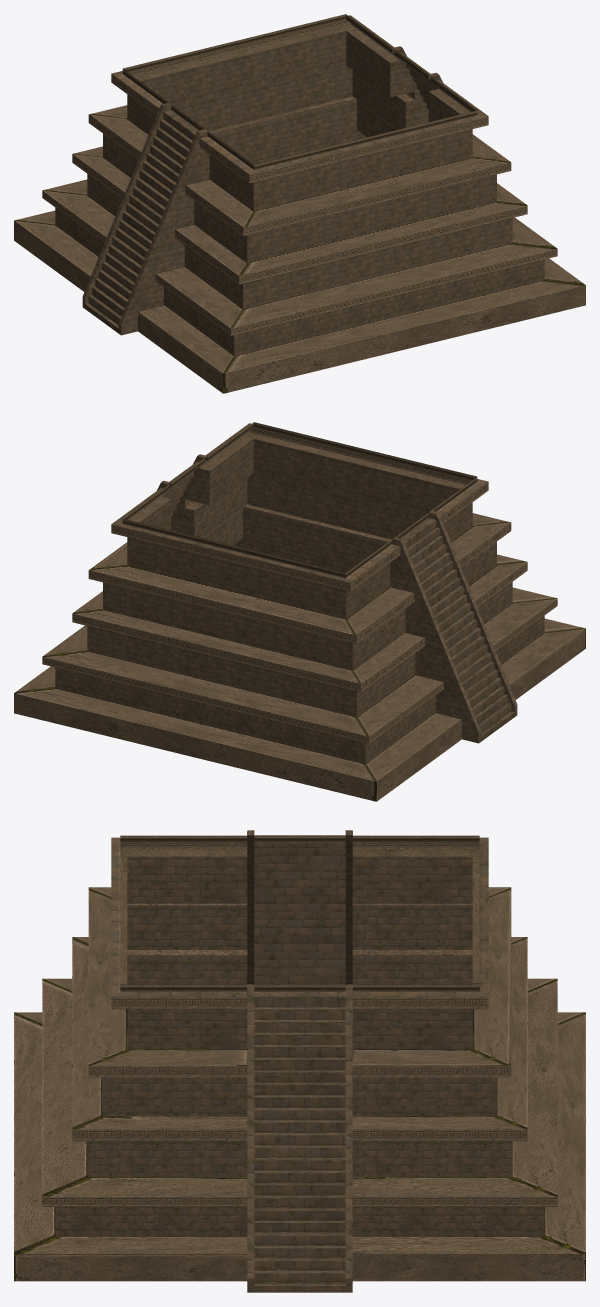
The model's file is temple_uvmapped.fbx.
The picture shows the model from 3 angles, top to bottom: view 1: azimuth 30°, elevation 25°; view 2: azimuth 150°, elevation 25°; view 3: azimuth 270°, elevation 25°; orthographic projection. The views are drawn at different scales.
Visible parts, largest first — view 1: pyramid_base; view 2: pyramid_base; view 3: pyramid_base.
Boxes of the visible parts, box(x1,y1,x2,y2) form: pyramid_base: box(14, 14, 585, 393); pyramid_base: box(14, 422, 585, 801); pyramid_base: box(14, 830, 585, 1292).
Bounding box in the file's own units: 413 × 183 × 378.
3 materials, 3 textured.
